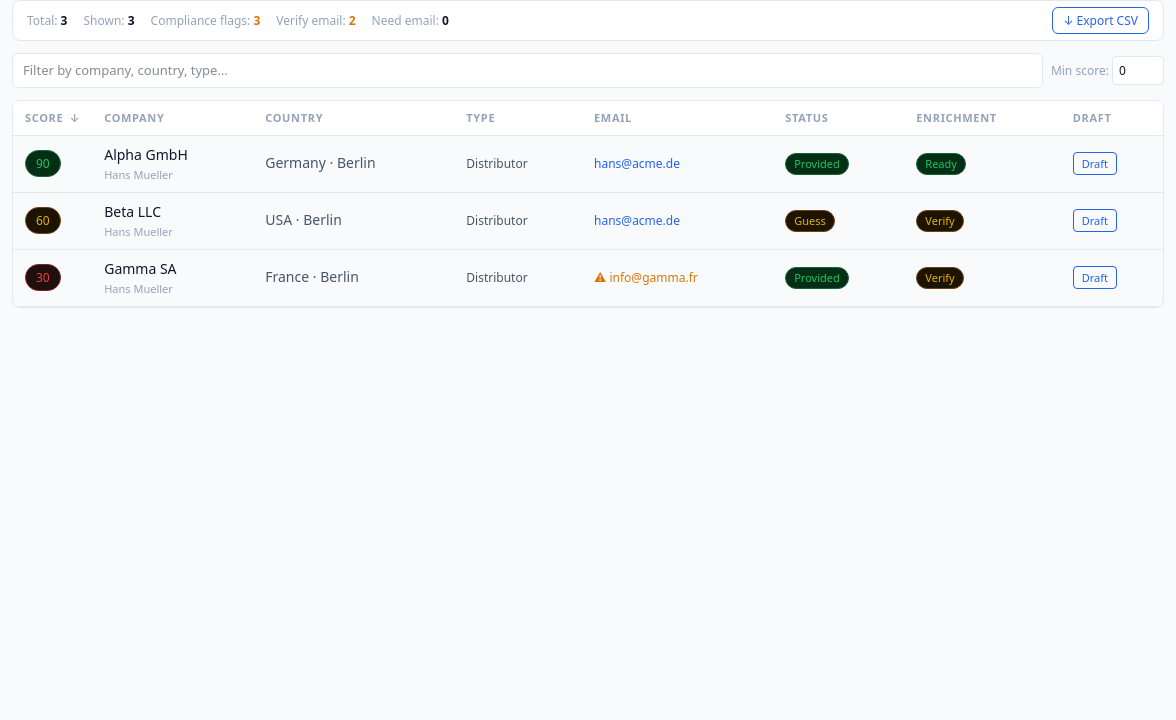
Test case: LeadsTable › shows DraftEmailCard when Draft is clicked
Click the button "Draft" in the row of "90" at {"x": 1095, "y": 164}, box [1073,152,1117,175]
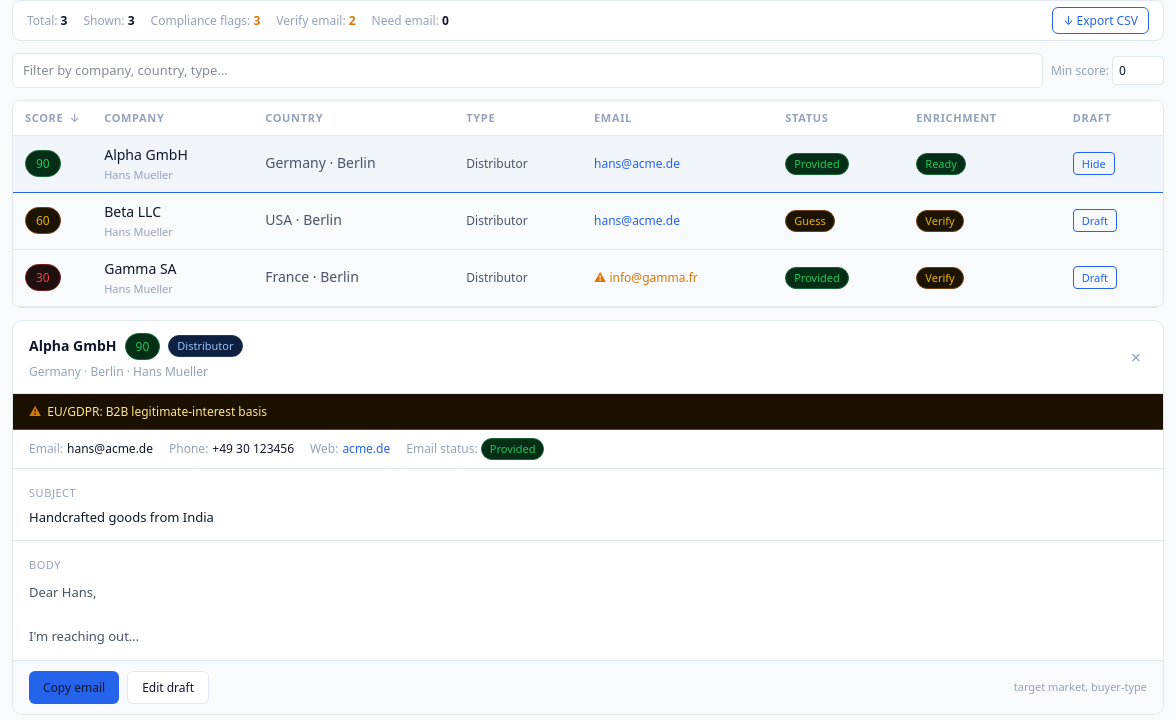
Expected: the text "Handcrafted goods from India" is shown, [29,508,214,526]
